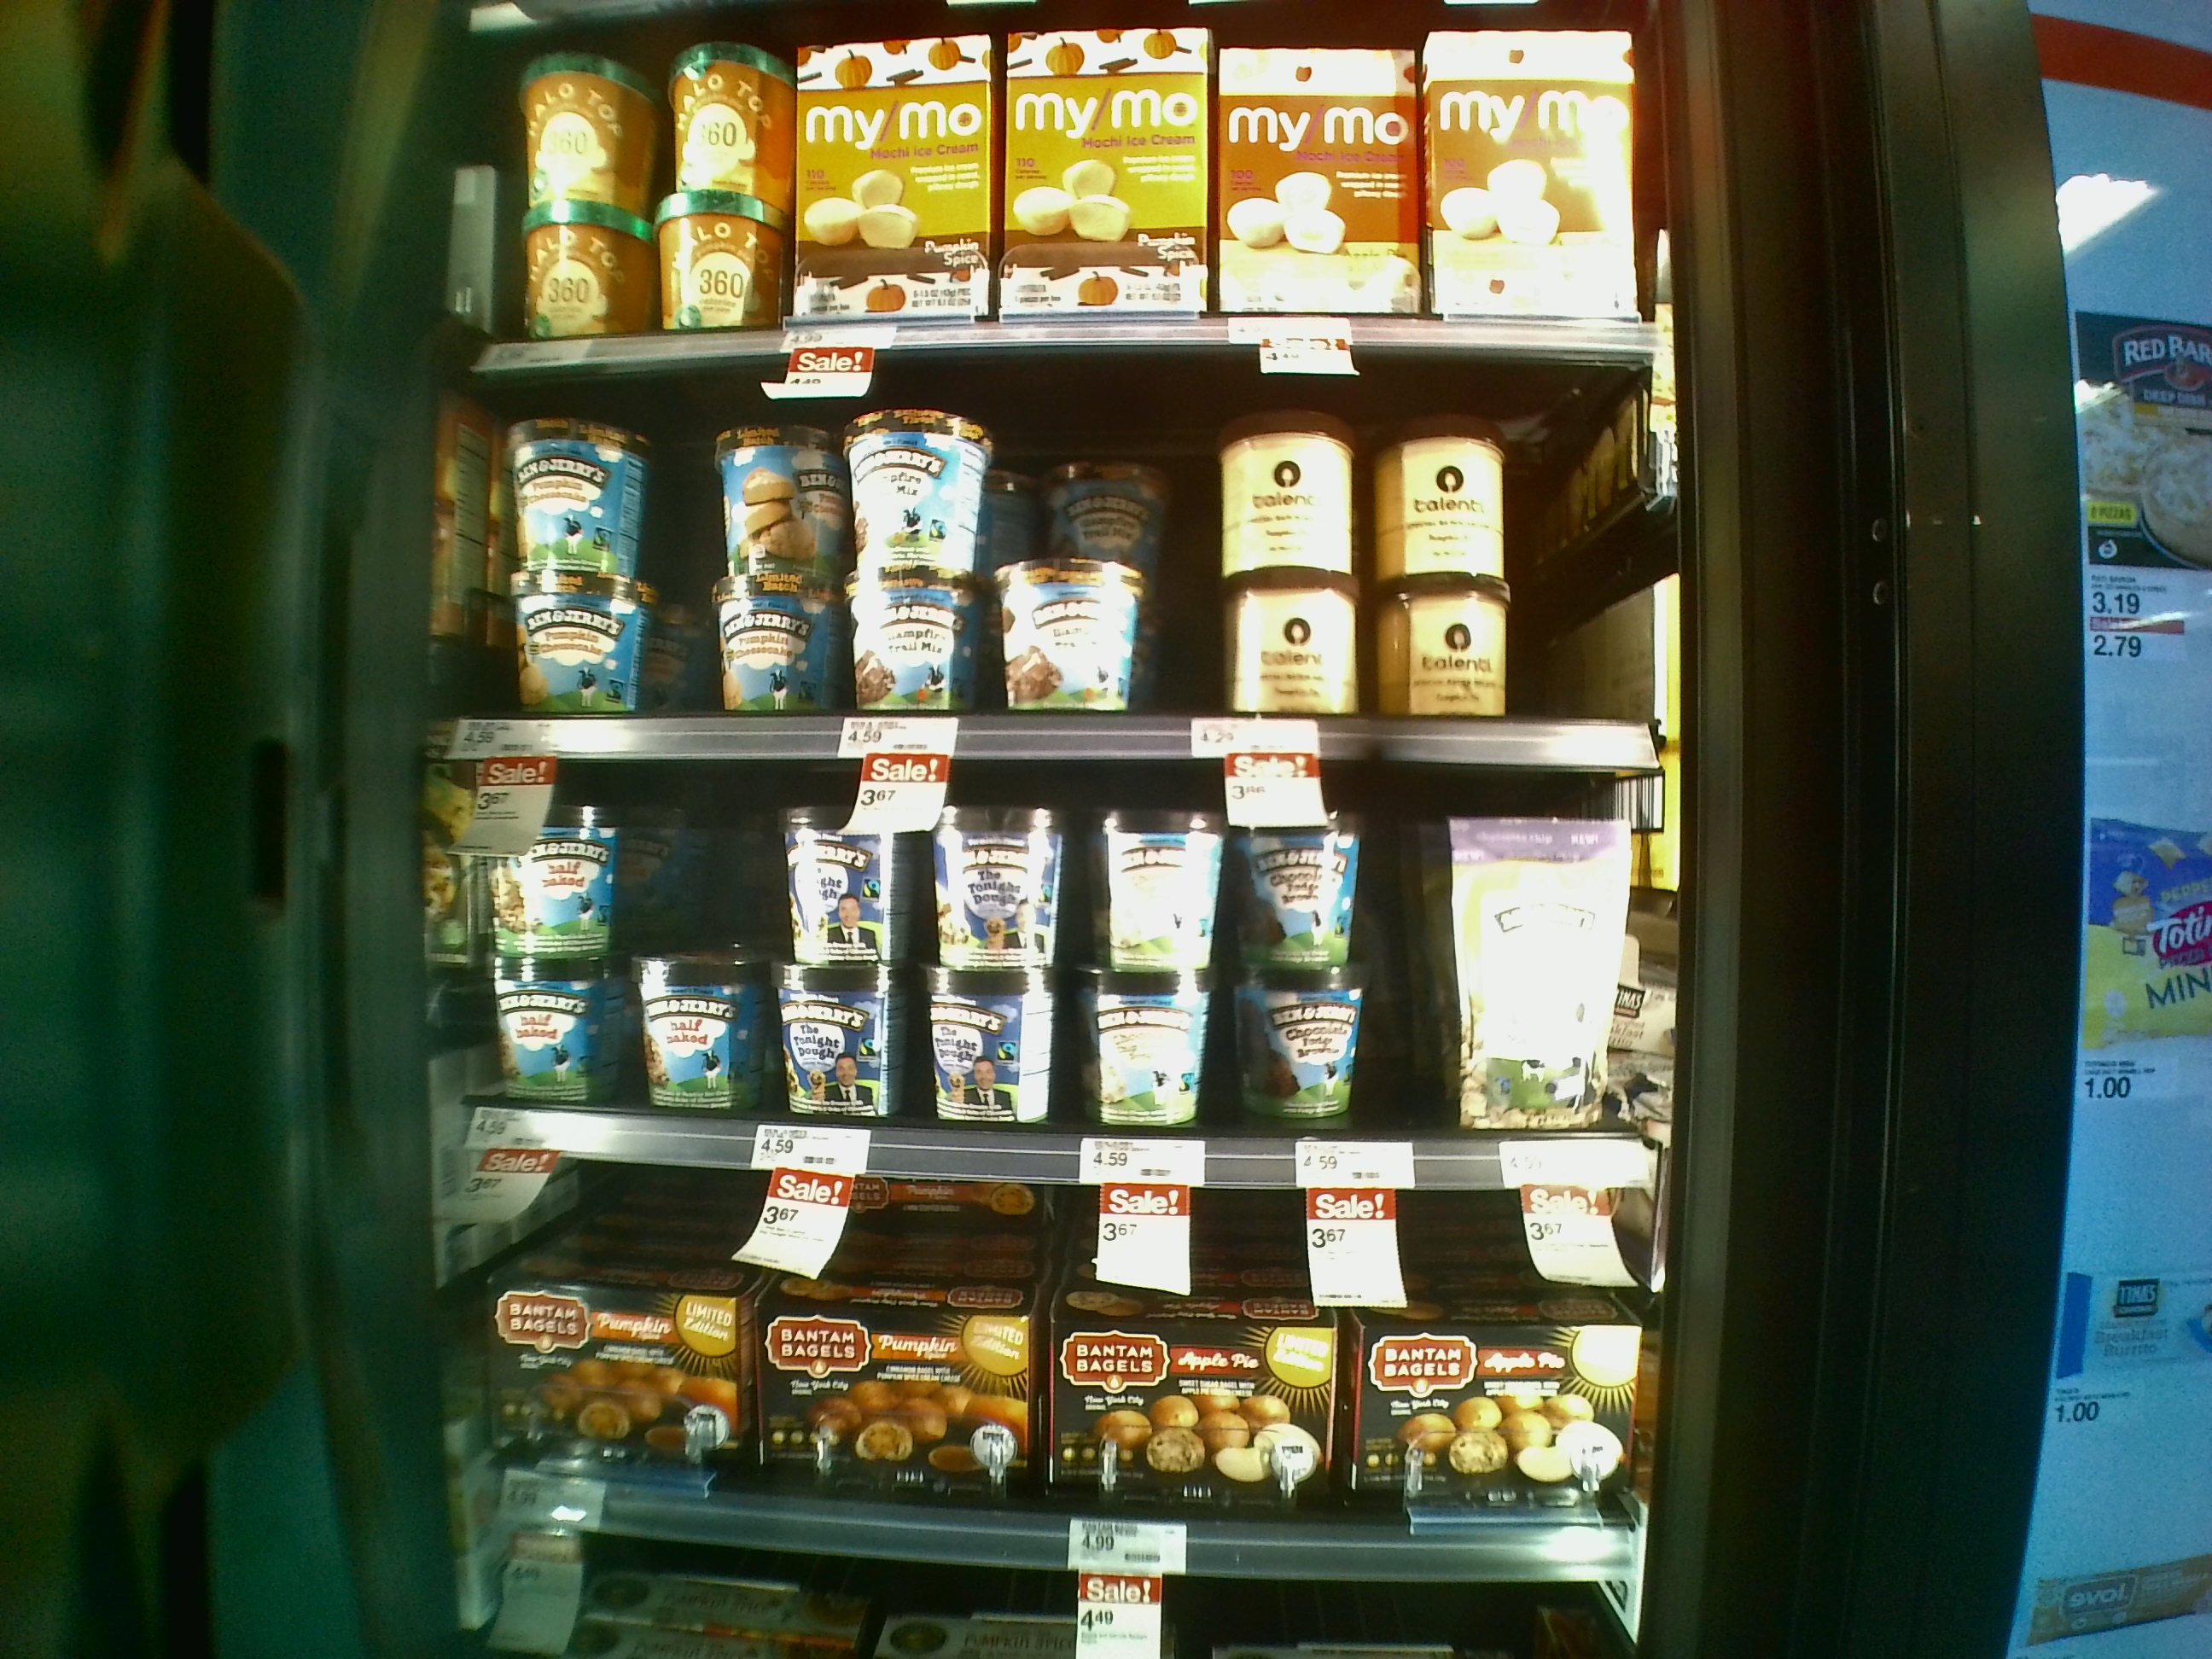shelf: (425, 721, 1651, 1175), (449, 1124, 1627, 1582), (469, 364, 1674, 765)
